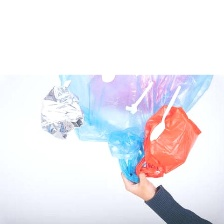plastic_bag: (41, 73, 215, 190), (132, 102, 203, 182)
